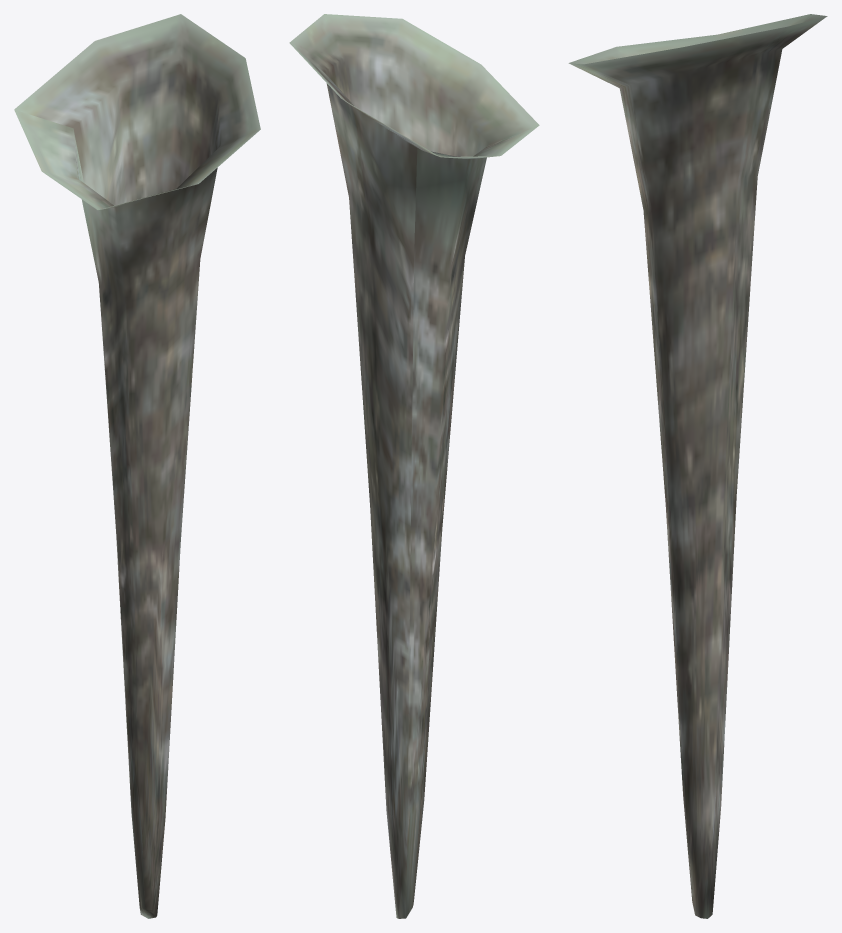
File: TROLLHOLE02_PS-MAINSTALAG30.fbx
The picture shows the model from 3 angles, left to right: view 1: azimuth 30°, elevation 25°; view 2: azimuth 150°, elevation 25°; view 3: azimuth 270°, elevation 25°; orthographic projection. The views are drawn at different scales.
Visible parts, largest first — view 1: TROLLHOLE02_PS-MAINSTALAG30; view 2: TROLLHOLE02_PS-MAINSTALAG30; view 3: TROLLHOLE02_PS-MAINSTALAG30.
Part boxes in pixels (bbox=[...]): TROLLHOLE02_PS-MAINSTALAG30: bbox=[14, 14, 260, 918]; TROLLHOLE02_PS-MAINSTALAG30: bbox=[289, 14, 539, 918]; TROLLHOLE02_PS-MAINSTALAG30: bbox=[568, 14, 827, 918].
Bounding box in the file's own units: 10616 × 46429 × 11766.
Materials: 1 (1 with a texture image).
